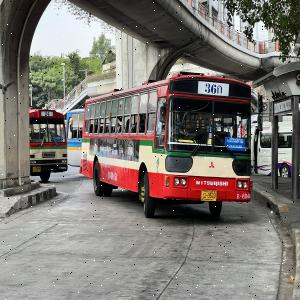BMTA-bus: (80, 69, 253, 220), (29, 107, 68, 183)
Bus Line Number: (197, 80, 229, 97), (43, 111, 51, 117)
Bus Side Number: (236, 192, 252, 200), (58, 165, 67, 170)
Destination Sign: (226, 136, 246, 151), (53, 136, 63, 142)
